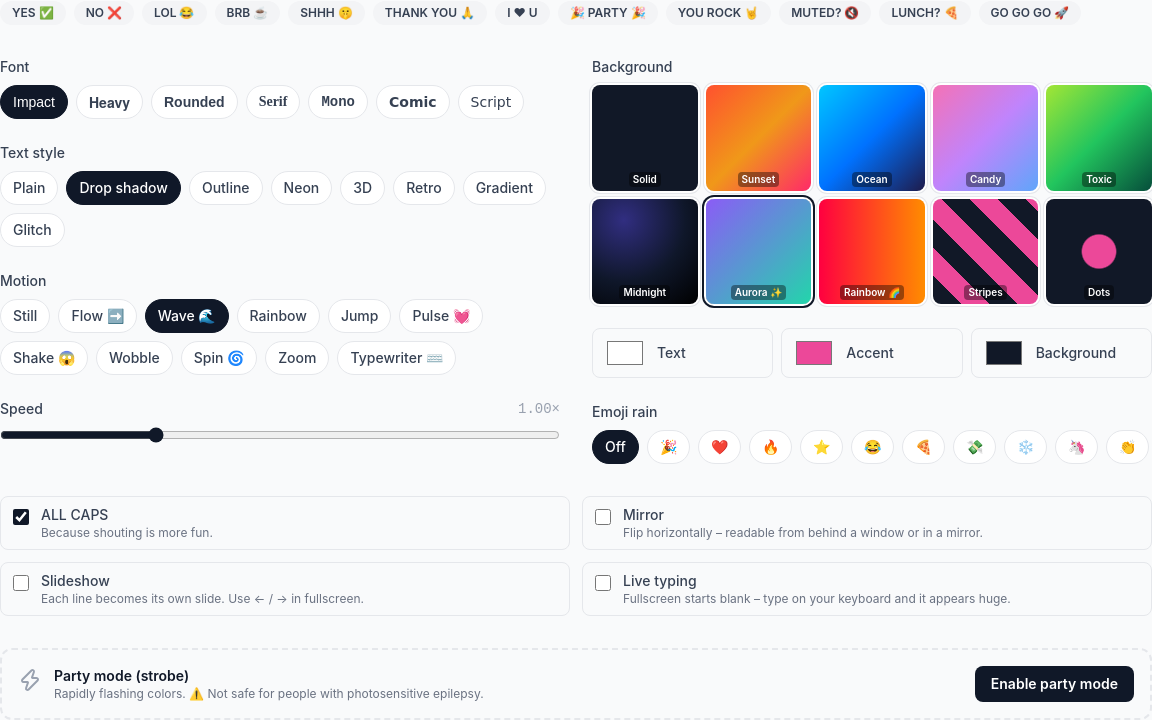
BigTextTool › asks for confirmation before enabling party mode
The image size is (1152, 720).
(page scrolled)
Step 1. Click the button "Enable party mode" → [1054, 684], box 975,666 -> 1134,702
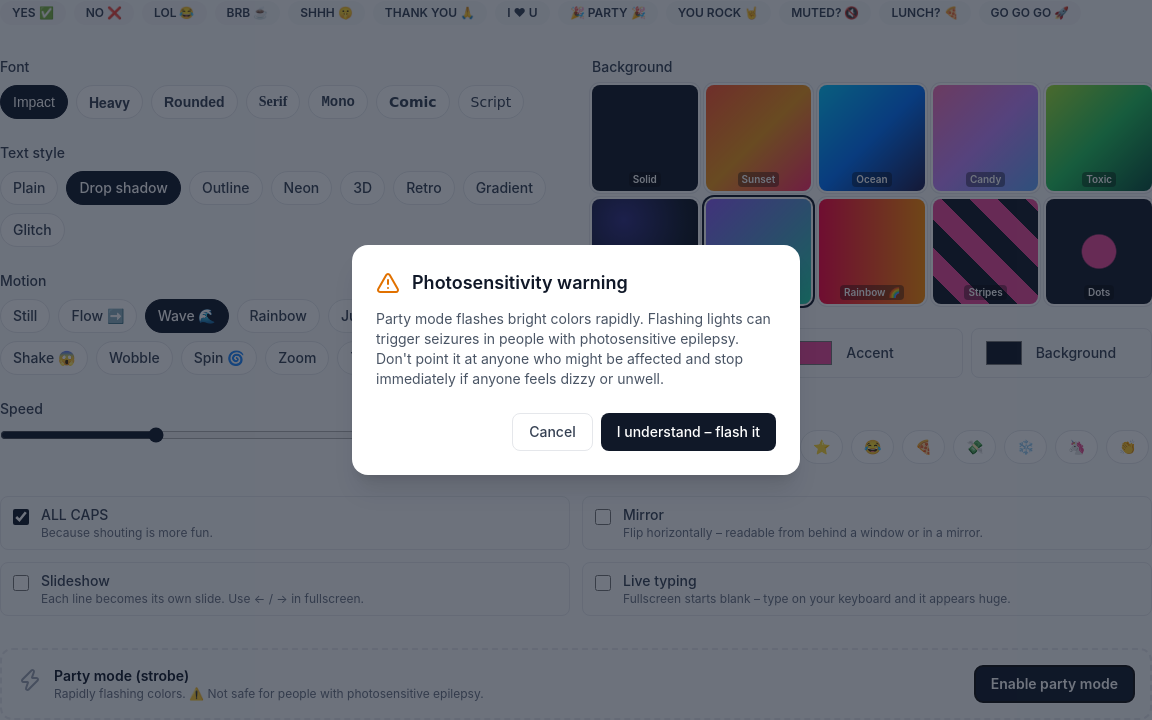
Check: the dialog shows "Photosensitivity warning", box 412,272 -> 628,293
Step 2. Click the button "Cancel" → [552, 432], box 512,413 -> 593,451
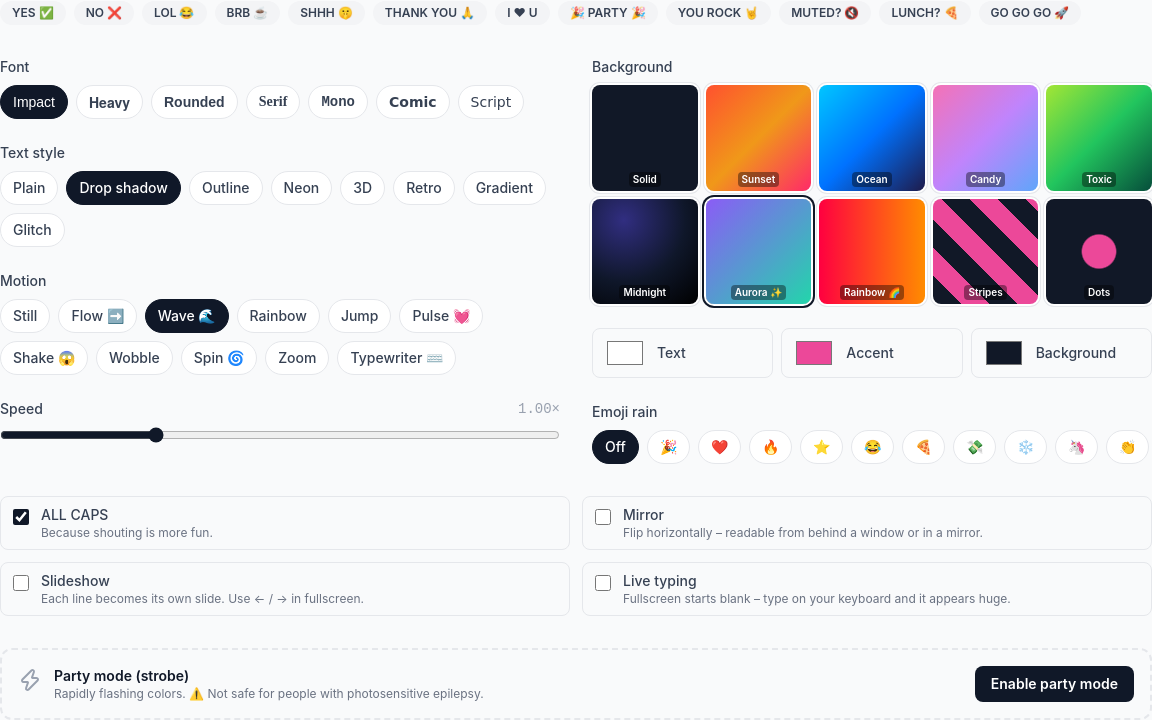
Step 3. Click the button "Enable party mode" → [1054, 684], box 975,666 -> 1134,702
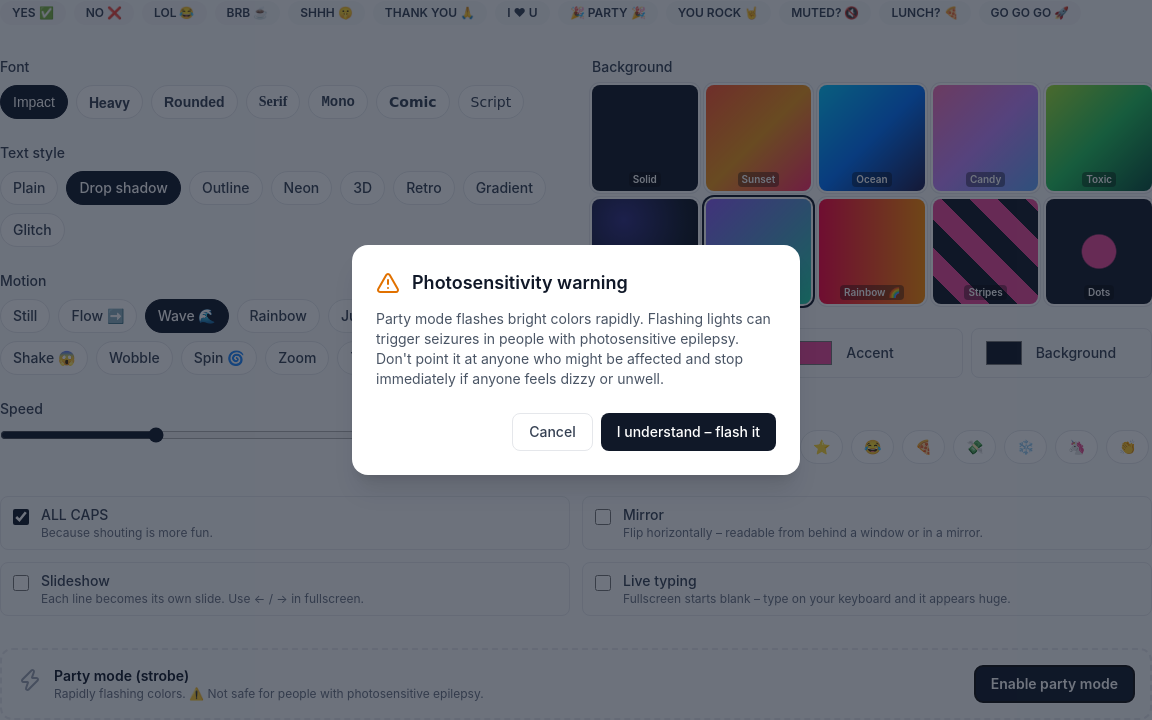
Step 4. Click the button "I understand – flash it" → [688, 432], box 601,413 -> 776,451
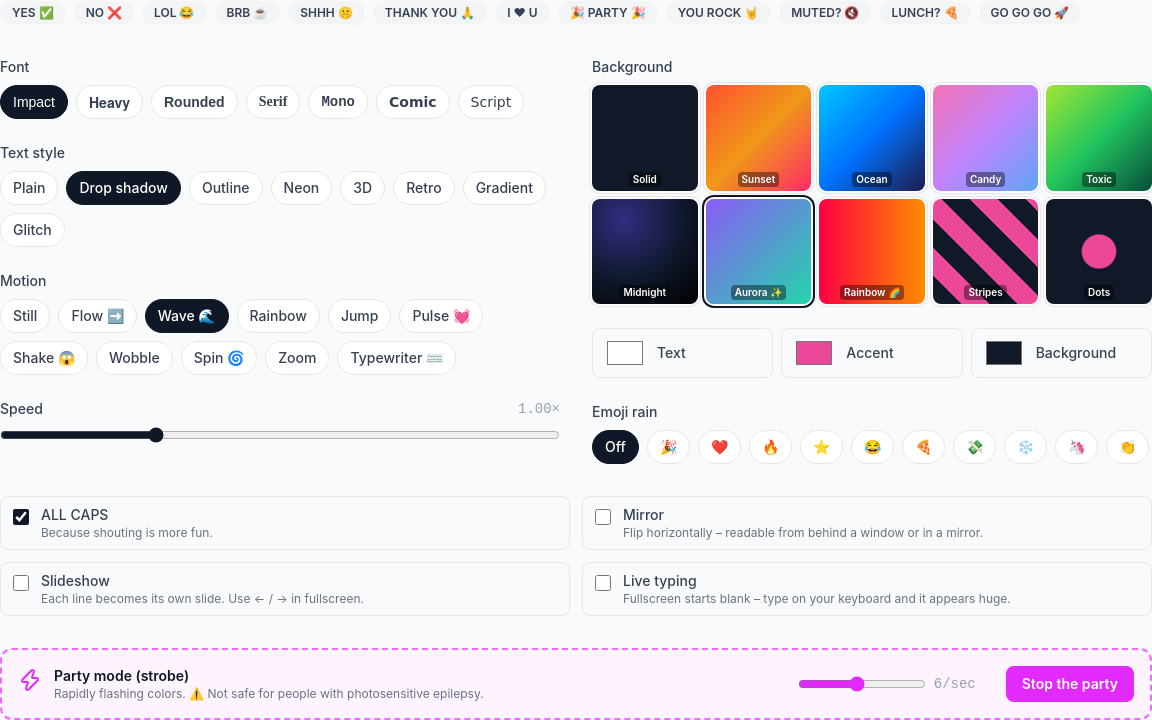
Check: the button "Stop the party" is shown, box 1006,666 -> 1134,702
